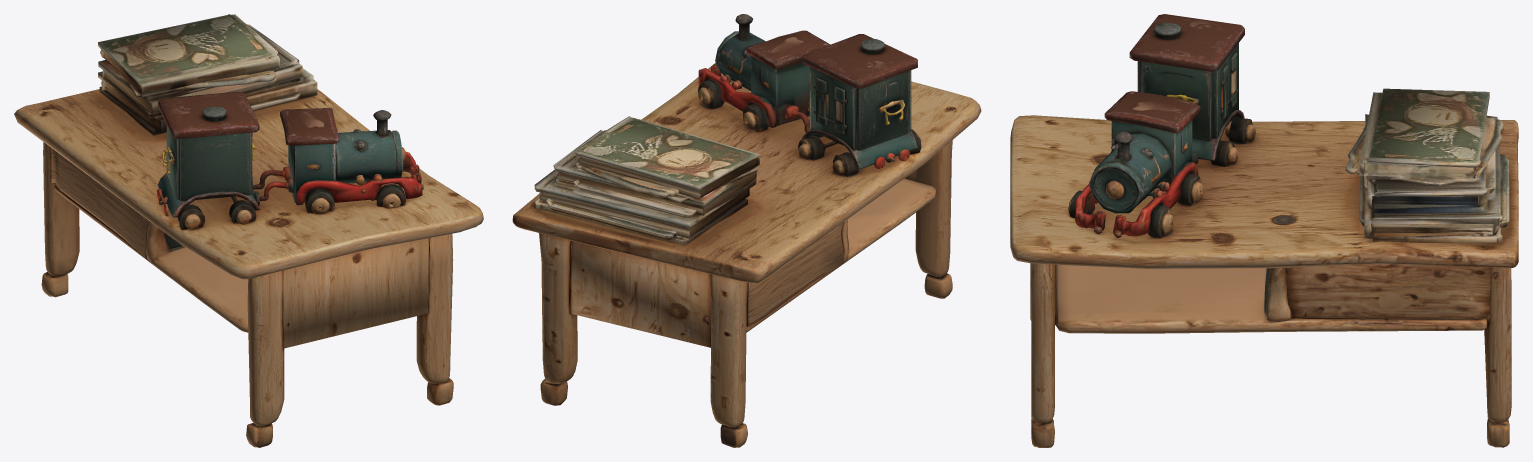
3 views of the same model, side by side, from view 1: azimuth 30°, elevation 25°; view 2: azimuth 150°, elevation 25°; view 3: azimuth 270°, elevation 25° (orthographic). The views are drawn at different scales.
Parts seen in each view (by area): view 1: tripo_node_9c5e4a0a-2ca8-4dac-ba72-d12e95313422; view 2: tripo_node_9c5e4a0a-2ca8-4dac-ba72-d12e95313422; view 3: tripo_node_9c5e4a0a-2ca8-4dac-ba72-d12e95313422.
Part boxes in pixels (x1,y1,x2,y2): tripo_node_9c5e4a0a-2ca8-4dac-ba72-d12e95313422: [14, 14, 483, 447]; tripo_node_9c5e4a0a-2ca8-4dac-ba72-d12e95313422: [512, 14, 981, 447]; tripo_node_9c5e4a0a-2ca8-4dac-ba72-d12e95313422: [1010, 14, 1518, 447].
Size of the model in its own units: 0.6348 by 0.7012 by 0.998.
Materials: 1 (1 with a texture image).
